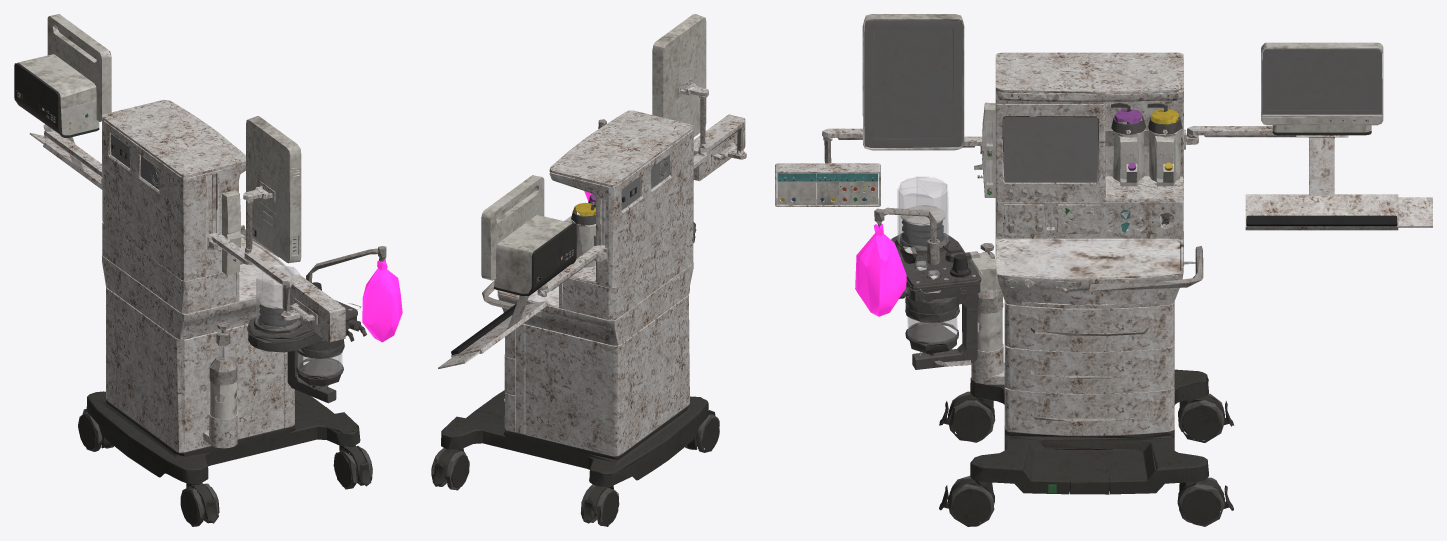
The model's file is craft_r11_somnus_bellows.glb.
The picture shows the model from 3 angles, left to right: view 1: azimuth 30°, elevation 25°; view 2: azimuth 150°, elevation 25°; view 3: azimuth 270°, elevation 25°; orthographic projection. The views are drawn at different scales.
Visible parts, largest first — view 1: craft_r11_somnus_bellows; view 2: craft_r11_somnus_bellows; view 3: craft_r11_somnus_bellows.
Part boxes in pixels (bbox=[...]): craft_r11_somnus_bellows: bbox=[14, 14, 402, 526]; craft_r11_somnus_bellows: bbox=[431, 14, 746, 526]; craft_r11_somnus_bellows: bbox=[775, 14, 1432, 526].
Size of the model in its own units: 0.8443 by 1.7 by 2.26.
Materials: 17 (15 with a texture image).
